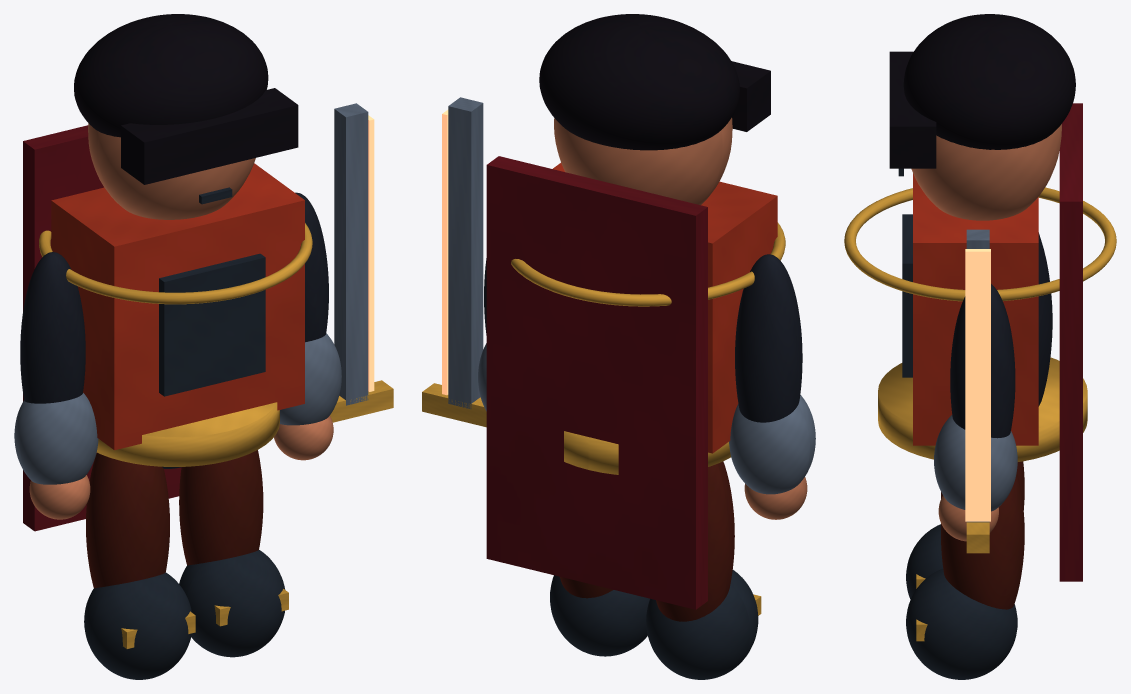
The model's file is Foundation.glb.
The picture shows the model from 3 angles, left to right: view 1: azimuth 30°, elevation 25°; view 2: azimuth 150°, elevation 25°; view 3: azimuth 270°, elevation 25°; orthographic projection. The views are drawn at different scales.
Visible parts, largest first — view 1: ChestPlate, Hair, ChestInset, SwordBlade, HairFringe, Leg, Boot, Arm, Boot.001, Leg.001, Cape, Head (+9 smaller); view 2: Cape, Hair, SwordBlade, ChestPlate, Arm, Head, Boot, Gauntlet, Boot.001, Leg, ShoulderCrest, WaistGuard (+5 smaller); view 3: Hair, ChestPlate, Cape, Head, Boot.001, SwordEdge, Leg.001, WaistGuard, ShoulderCrest, Arm.001, Gauntlet.001, HairFringe (+6 smaller).
Boxes of the visible parts, x1,y1,x2,y2 form: ChestPlate: [51, 163, 304, 450]; Hair: [74, 14, 268, 137]; ChestInset: [159, 253, 265, 396]; SwordBlade: [334, 103, 368, 405]; HairFringe: [121, 88, 298, 184]; Leg: [86, 452, 169, 588]; Boot: [84, 572, 191, 679]; Arm: [20, 252, 85, 403]; Boot.001: [179, 550, 285, 657]; Leg.001: [179, 450, 263, 565]; Cape: [23, 125, 181, 531]; Head: [88, 123, 255, 219]; Cape: [486, 156, 707, 609]; Hair: [539, 14, 739, 150]; SwordBlade: [448, 97, 483, 408]; ChestPlate: [553, 163, 777, 453]; Arm: [735, 254, 802, 422]; Head: [554, 117, 732, 205]; Boot: [646, 570, 758, 679]; Gauntlet: [729, 395, 815, 494]; Boot.001: [550, 575, 649, 656]; Leg: [656, 461, 734, 621]; ShoulderCrest: [511, 222, 785, 306]; WaistGuard: [564, 431, 730, 474]; Hair: [903, 14, 1075, 149]; ChestPlate: [913, 173, 1038, 445]; Cape: [1059, 103, 1082, 581]; Head: [911, 124, 1061, 220]; Boot.001: [906, 568, 1017, 679]; SwordEdge: [965, 249, 990, 521]; Leg.001: [941, 472, 1024, 609]; WaistGuard: [878, 357, 1087, 461]; ShoulderCrest: [844, 187, 1116, 301]; Arm.001: [950, 284, 1015, 438]; Gauntlet.001: [934, 415, 1017, 511]; HairFringe: [889, 51, 936, 168].
Size of the model in its own units: 1.82 by 2.96 by 1.17.
Materials: 12 (9 with a texture image).
